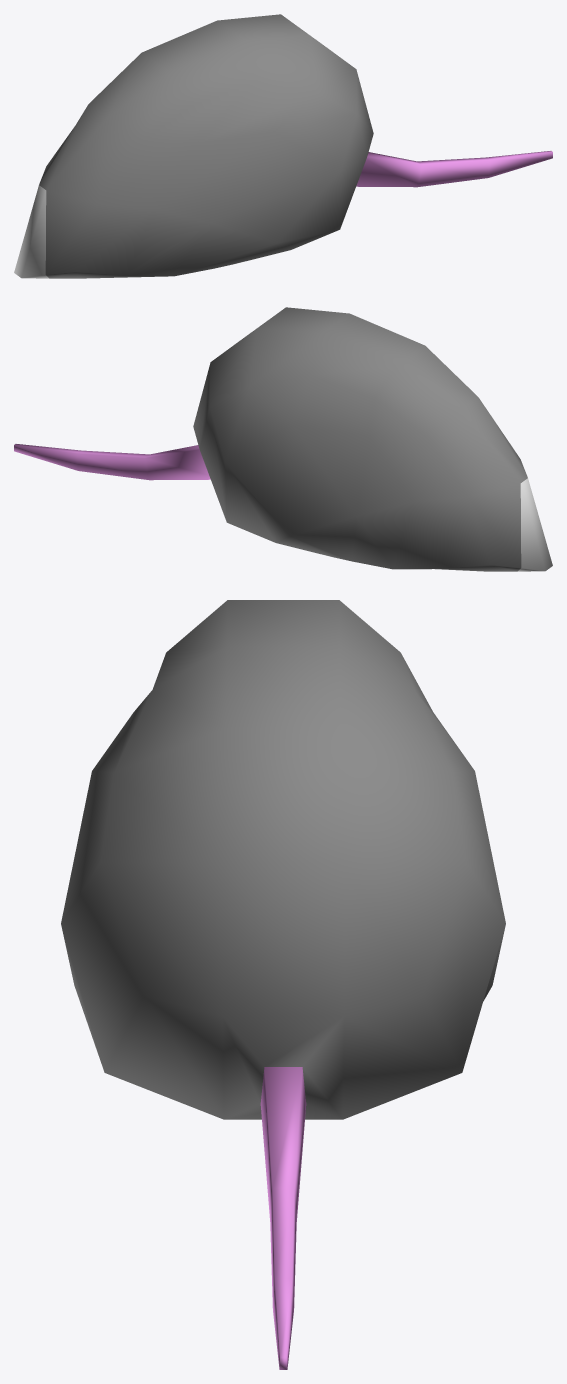
The model's file is Raticus.glb.
3 renders of one model, top to bottom at view 1: azimuth 30°, elevation 25°; view 2: azimuth 150°, elevation 25°; view 3: azimuth 270°, elevation 25°, orthographic. The views are drawn at different scales.
Parts seen in each view (by area): view 1: Rat; view 2: Rat; view 3: Rat.
Boxes of the visible parts, x1,y1,x2,y2 form: Rat: (14, 14, 552, 278); Rat: (14, 307, 552, 571); Rat: (61, 600, 505, 1369).
Size of the model in its own units: 7.35 by 2.75 by 2.65.
